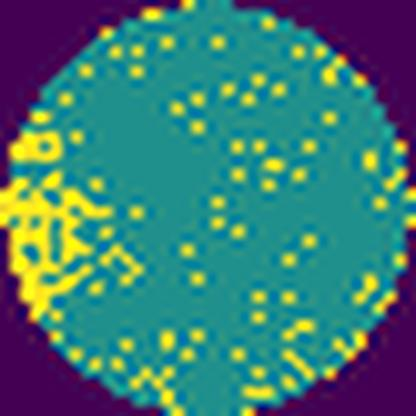Edge-Loc: (0, 173, 116, 329), (9, 132, 60, 164)
